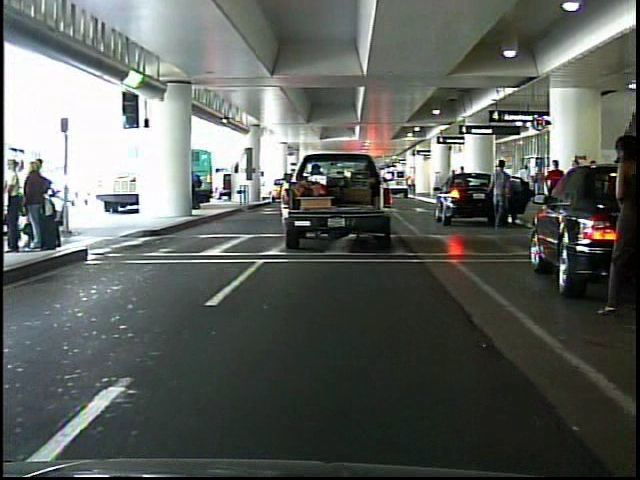person: (482, 156, 517, 236), (544, 156, 564, 182)
